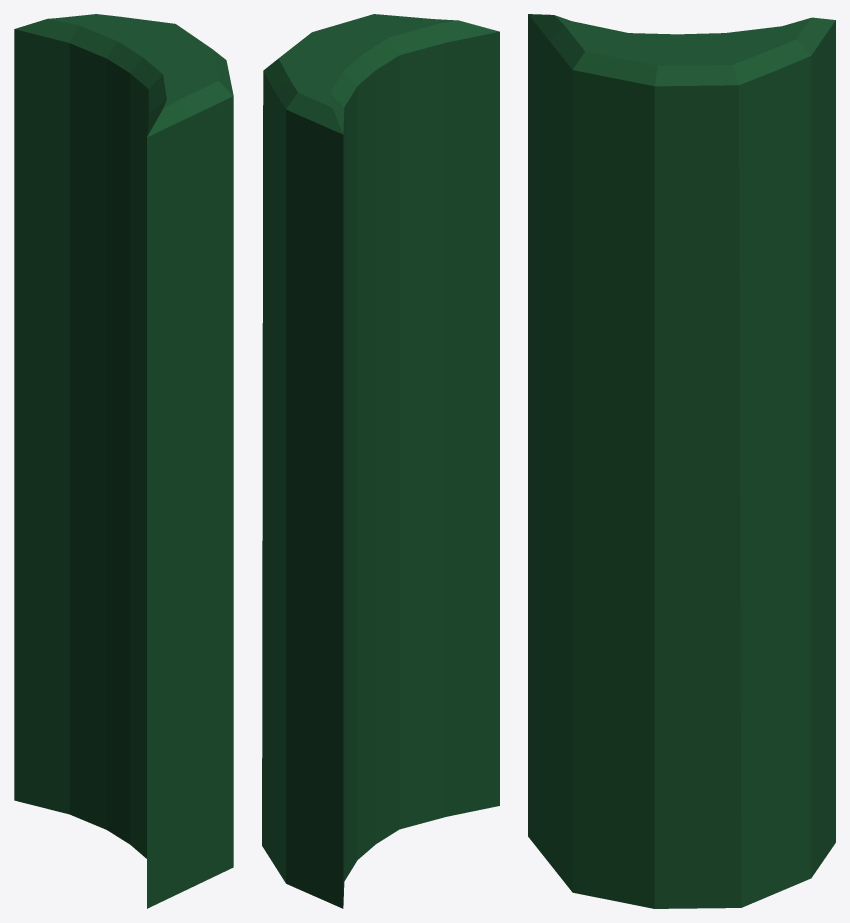
3 renders of one model, left to right at view 1: azimuth 30°, elevation 25°; view 2: azimuth 150°, elevation 25°; view 3: azimuth 270°, elevation 25°, orthographic. The views are drawn at different scales.
Visible parts, largest first — view 1: 平面.003; view 2: 平面.003; view 3: 平面.003.
Part boxes in pixels (x1,y1,x2,y2): 平面.003: [14, 14, 233, 908]; 平面.003: [262, 14, 499, 908]; 平面.003: [528, 14, 835, 908].
Size of the model in its own units: 111 by 600 by 200.
